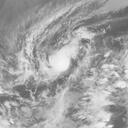cyclone: (27, 33, 79, 80)
